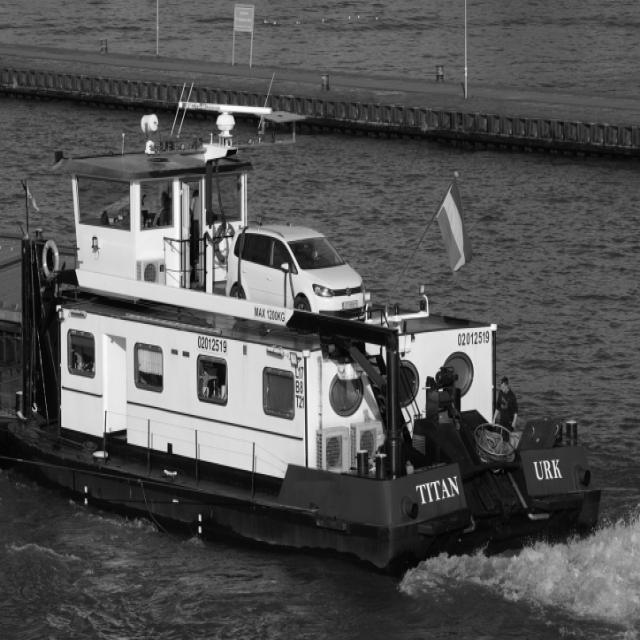tugboat: (3, 68, 609, 586)
